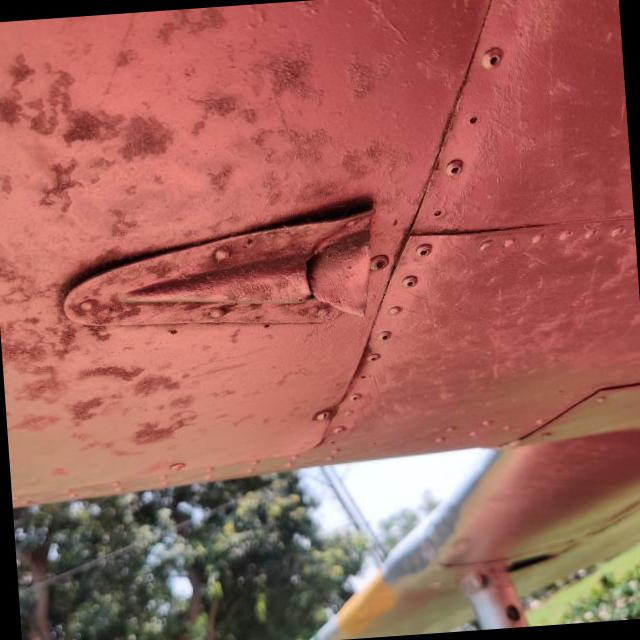Crack: (306, 239, 340, 308)
